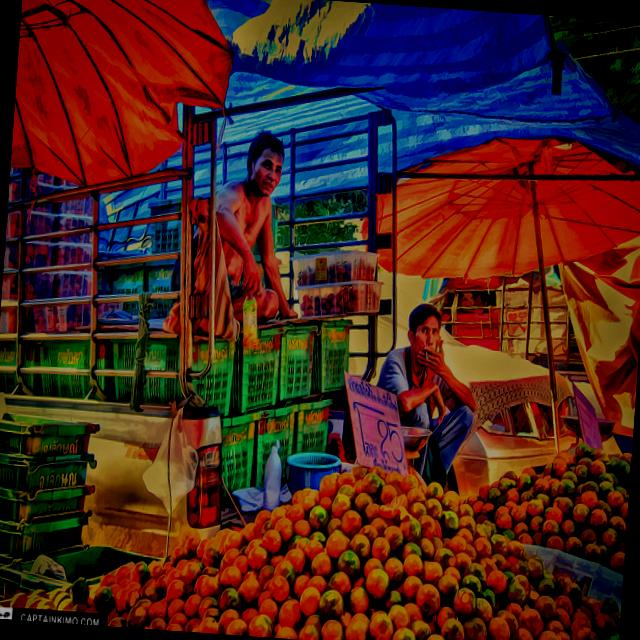Vehicle: (0, 71, 413, 578), (444, 398, 586, 504)
